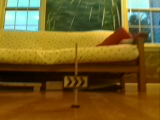right: (63, 75, 89, 89)
